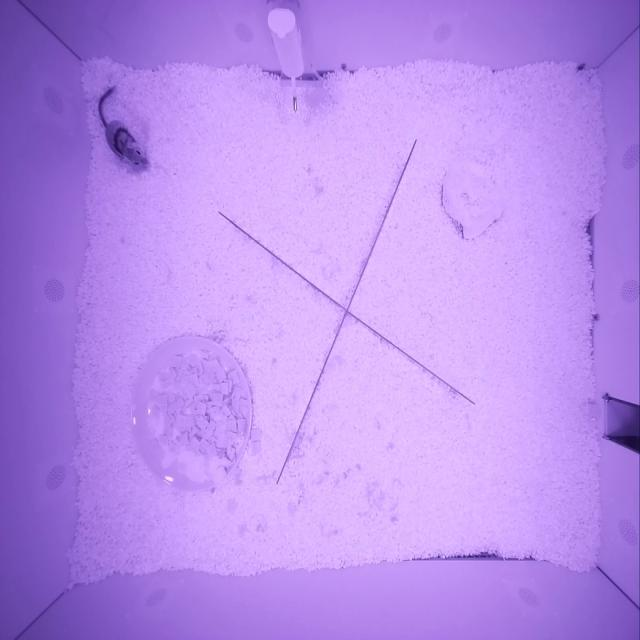adult_front: (104, 119, 150, 173)
